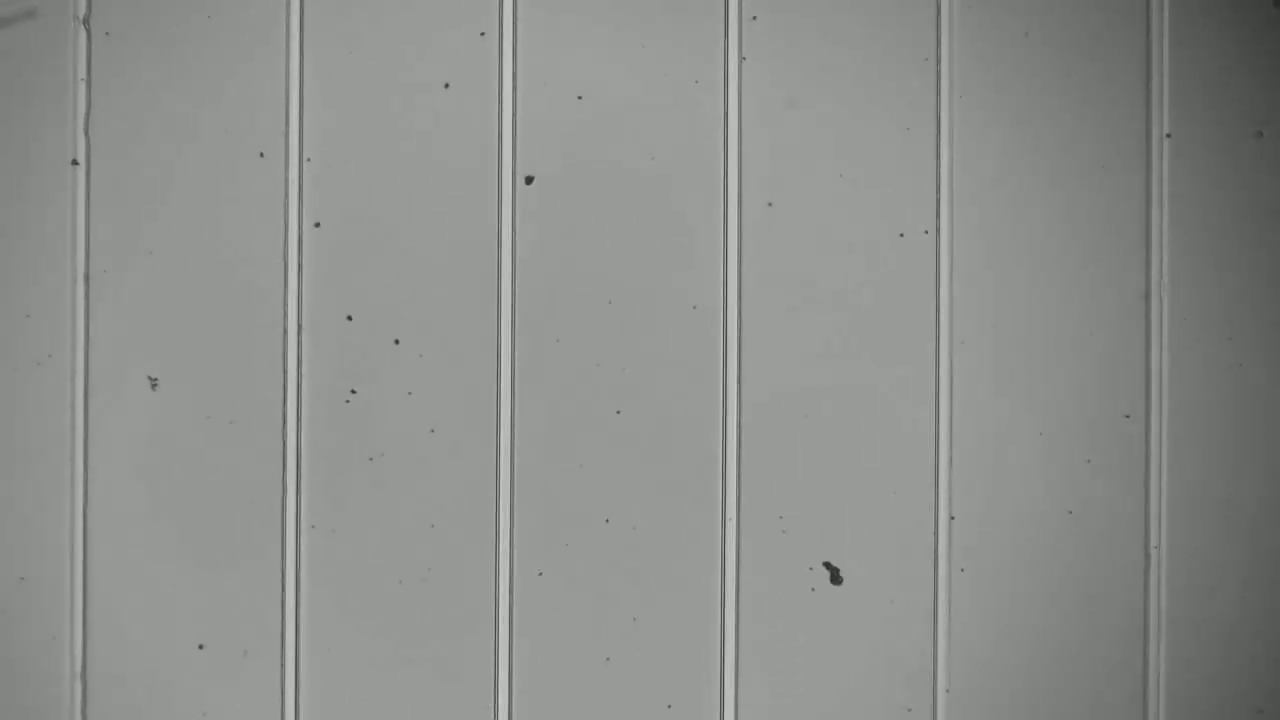edge_bite: (66, 8, 98, 43)
